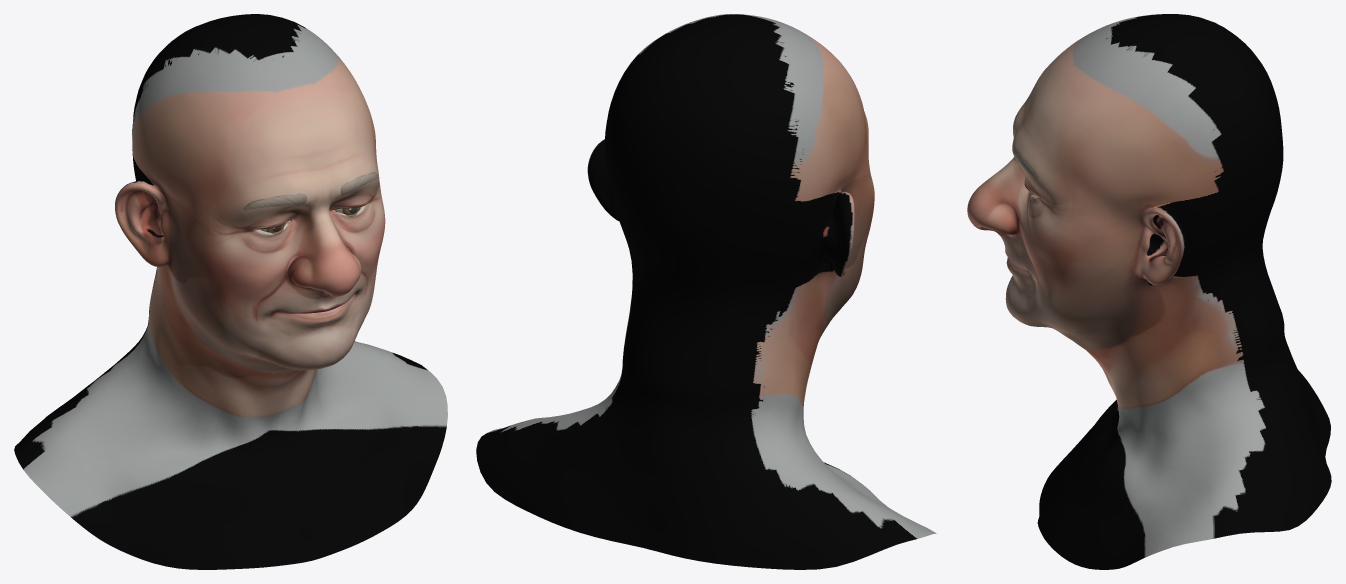
Rendered from postmaster-kt.glb.
3 views of the same model, side by side, from view 1: azimuth 30°, elevation 25°; view 2: azimuth 150°, elevation 25°; view 3: azimuth 270°, elevation 25° (orthographic). The views are drawn at different scales.
Visible parts, largest first — view 1: mesh; view 2: mesh; view 3: mesh.
Part boxes in pixels (x1,y1,x2,y2): mesh: [14, 14, 447, 569]; mesh: [476, 14, 936, 569]; mesh: [967, 14, 1331, 569].
Size of the model in its own units: 3.17 by 3.64 by 2.45.
Materials: 4 (4 with a texture image).
